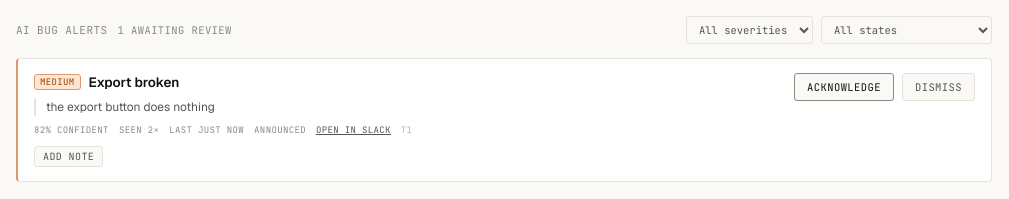
Scenario: BugAlertsPage › reports a failed Slack mirror without implying the ack was lost
Click the button with class "ack": (844, 87) [794,73,894,101]
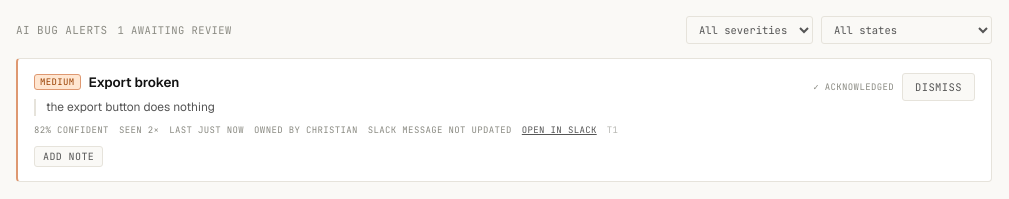
Now the text "Slack message not updated" is shown, box [368,124,512,136]
Now the text "owned by Christian" is shown, box [254,124,358,136]
